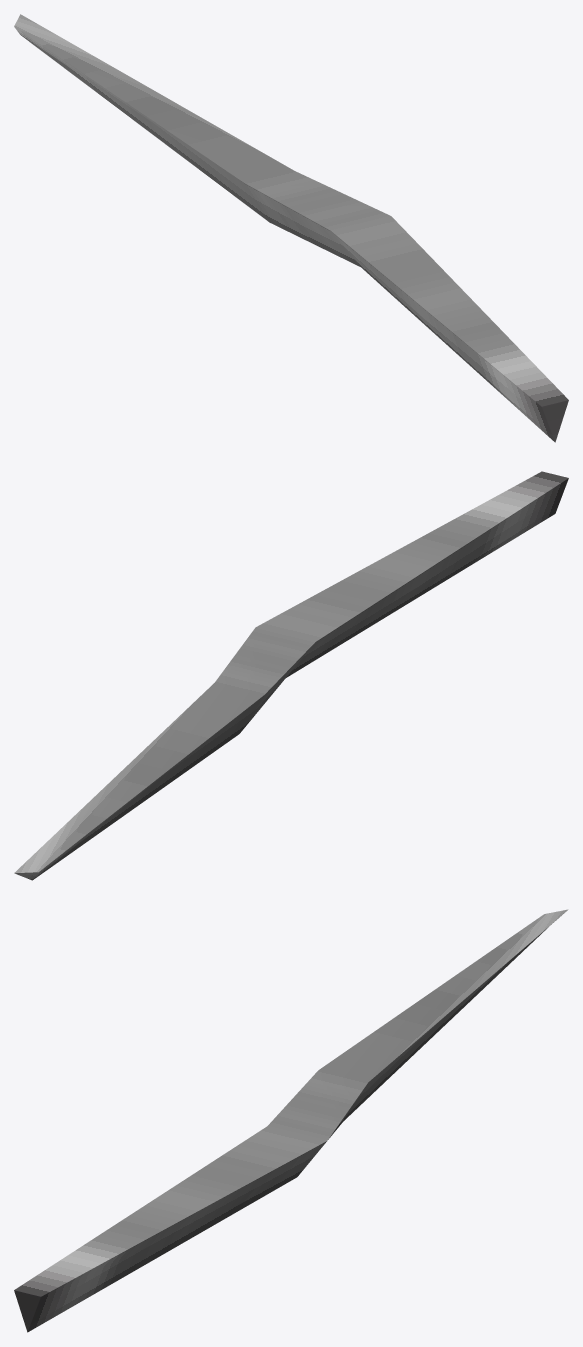
File: needle_high.fbx
3 views of the same model, one above another, from view 1: azimuth 30°, elevation 25°; view 2: azimuth 150°, elevation 25°; view 3: azimuth 330°, elevation 25° (orthographic).
Parts seen in each view (by area): view 1: needle_group; view 2: needle_group; view 3: needle_group.
Part boxes in pixels (x1,y1,x2,y2): needle_group: (14, 14, 568, 442); needle_group: (14, 471, 568, 880); needle_group: (14, 909, 568, 1332).
Bounding box in the file's own units: 2.37 × 1.25 × 26.8.
Materials: 1 (1 with a texture image).
